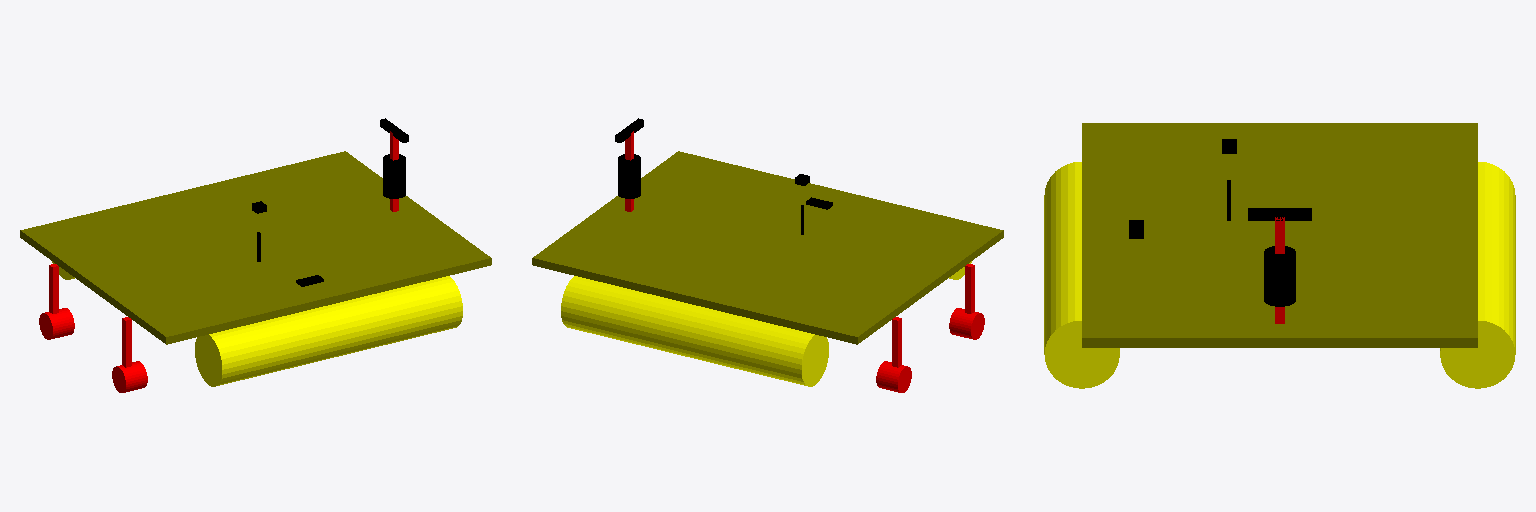
robot.urdf — athena:
<?xml version="1.0" ?>
<!-- =================================================================================== -->
<!-- |    This document was autogenerated by xacro from norway.urdf.xacro              | -->
<!-- |    EDITING THIS FILE BY HAND IS NOT RECOMMENDED                                 | -->
<!-- =================================================================================== -->
<robot name="athena">
  <include filename="[local-path]/AllSeaingVehicle/src/simulation/sim_suite/urdf/inertia.xacro"/>
  <link name="dummy_base_link"/>
  <joint name="dummy_base_joint" type="fixed">
    <parent link="dummy_base_link"/>
    <child link="base_link"/>
    <origin rpy="0 0 0" xyz="0 0 0"/>
  </joint>
  <link name="base_link">
    <visual>
      <geometry>
        <box size="1.35 1.05 0.03"/>
      </geometry>
      <material name="brown">
        <color rgba="0.5 0.5 0 1"/>
      </material>
    </visual>
    <collision>
      <geometry>
        <box size="1.35 1.05 0.03"/>
      </geometry>
    </collision>
    <inertial>
      <mass value=".10"/>
      <inertia ixx="0.015195000000000002" ixy="0" ixz="0" iyy="0.024375000000000004" iyz="0" izz="0.009195"/>
    </inertial>
  </link>
  <link name="right_hull">
    <visual>
      <geometry>
        <cylinder length="1.0" radius="0.1"/>
      </geometry>
      <material name="yellow">
        <color rgba="1 1 0 1"/>
      </material>
    </visual>
    <collision>
      <geometry>
        <cylinder length="1.0" radius="0.1"/>
      </geometry>
    </collision>
    <intertial>
      <mass value=".5"/>
      <inertia ixx="0.042916666666666665" ixy="0" ixz="0" iyy="0.042916666666666665" iyz="0" izz="0.0025000000000000005"/>
    </intertial>
  </link>
  <joint name="right_hull_joint" type="fixed">
    <parent link="base_link"/>
    <child link="right_hull"/>
    <origin rpy="0 1.57 0" xyz="0 0.525 -0.115"/>
  </joint>
  <link name="left_hull">
    <visual>
      <geometry>
        <cylinder length="1.0" radius="0.1"/>
      </geometry>
      <material name="yellow">
        <color rgba="1 1 0 1"/>
      </material>
    </visual>
    <collision>
      <geometry>
        <cylinder length="1.0" radius="0.1"/>
      </geometry>
    </collision>
    <intertial>
      <mass value=".5"/>
      <inertia ixx="0.042916666666666665" ixy="0" ixz="0" iyy="0.042916666666666665" iyz="0" izz="0.0025000000000000005"/>
    </intertial>
  </link>
  <joint name="left_hull_joint" type="fixed">
    <parent link="base_link"/>
    <child link="left_hull"/>
    <origin rpy="0 1.57 0" xyz="0 -0.525 -0.115"/>
  </joint>
  <link name="camera_stand">
    <visual>
      <geometry>
        <box size=".025 .025 0.33"/>
      </geometry>
      <material name="red">
        <color rgba="1 0 0 1"/>
      </material>
    </visual>
    <inertial>
      <mass value=".05"/>
      <inertia ixx="0.00045635416666666676" ixy="0" ixz="0" iyy="5.208333333333335e-06" iyz="0" izz="0.00045635416666666676"/>
    </inertial>
  </link>
  <joint name="camera_stand_joint" type="fixed">
    <parent link="base_link"/>
    <child link="camera_stand"/>
    <origin xyz="0.5750000000000001 0 0.165"/>
  </joint>
  <link name="camera_link">
    <visual>
      <geometry>
        <box size=".025 .17 .025"/>
      </geometry>
      <material name="black">
        <color rgba="0 0 0 1"/>
      </material>
    </visual>
    <inertial>
      <mass value=".05"/>
      <inertia ixx="5.208333333333335e-06" ixy="0" ixz="0" iyy="1.3020833333333336e-05" iyz="0" izz="1.3020833333333336e-05"/>
    </inertial>
  </link>
  <gazebo reference="camera_link">
    <sensor name="camera1" type="camera">
      <horizontal_fov>1.047</horizontal_fov>
      <image>
        <width>640</width>
        <height>480</height>
      </image>
      <clip>
        <near>0.1</near>
        <far>100</far>
      </clip>
      <always_on>1</always_on>
      <update_rate>30</update_rate>
      <plugin filename="libgazebo_ros_camera.so" name="camera_controller">
        <alwaysOn>1</alwaysOn>
        <updateRate>0.0</updateRate>
        <cameraName>zed2i</cameraName>
        <imageTopicName>/zed2i/zed_node/rgb/image_rect_color</imageTopicName>
        <cameraInfoTopicName>/zed_node/camera_info</cameraInfoTopicName>
        <frameName>camera_link</frameName>
        <hackBaseline>0.07</hackBaseline>
        <distortionK1>0.0</distortionK1>
        <distortionK2>0.0</distortionK2>
        <distortionK3>0.0</distortionK3>
        <distortionT1>0.0</distortionT1>
        <distortionT2>0.0</distortionT2>
      </plugin>
    </sensor>
  </gazebo>
  <joint name="camera_joint" type="fixed">
    <parent link="camera_stand"/>
    <child link="camera_link"/>
    <origin xyz="0 0 0.165"/>
  </joint>
  <link name="lidar_stand">
    <visual>
      <geometry>
        <box size=".025 .025 0.15"/>
      </geometry>
      <material name="red">
        <color rgba="1 0 0 1"/>
      </material>
    </visual>
    <inertial>
      <mass value=".25"/>
      <inertia ixx="0.00048177083333333335" ixy="0" ixz="0" iyy="2.6041666666666672e-05" iyz="0" izz="0.00048177083333333335"/>
    </inertial>
  </link>
  <joint name="lidar_stand_joint" type="fixed">
    <parent link="base_link"/>
    <child link="lidar_stand"/>
    <origin xyz="0.5750000000000001 0 0.075"/>
  </joint>
  <link name="velodyne_lidar">
    <visual>
      <geometry>
        <cylinder length=".14" radius=".0425"/>
      </geometry>
      <material name="black">
        <color rgba="0 0 0 1"/>
      </material>
    </visual>
  </link>
  <joint name="lidar_mount_joint" type="fixed">
    <parent link="lidar_stand"/>
    <child link="velodyne_lidar"/>
    <origin xyz="0 0 0.075"/>
  </joint>
  <link name="imu_link">
    <inertial>
      <mass value="0.015"/>
      <inertia ixx="1e-05" ixy="0" ixz="0" iyy="1e-05" iyz="0" izz="1e-05"/>
    </inertial>
    <visual>
      <geometry>
        <box size=".09 .04 .025"/>
      </geometry>
      <material name="black">
        <color rgba="0 0 0 1"/>
      </material>
    </visual>
    <self_collide>0</self_collide>
    <enable_wind>0</enable_wind>
    <kinematic>0</kinematic>
  </link>
  <joint name="imu_joint" type="fixed">
    <parent link="base_link"/>
    <child link="imu_link"/>
    <origin xyz="0.005 -0.38 0.015"/>
    <axis>
      <xyz>1 0 0</xyz>
      <use_parent_model_frame>1</use_parent_model_frame>
      <limit>
        <lower>0</lower>
        <upper>0</upper>
        <effort>0</effort>
        <velocity>0</velocity>
      </limit>
      <dynamics>
        <spring_reference>0</spring_reference>
        <spring_stiffness>0</spring_stiffness>
        <damping>0.7</damping>
        <friction>0</friction>
      </dynamics>
    </axis>
    <physics>
      <ode>
        <limit>
          <cfm>0</cfm>
          <erp>0.2</erp>
        </limit>
        <suspension>
          <cfm>0</cfm>
          <erp>0.2</erp>
        </suspension>
      </ode>
    </physics>
  </joint>
  <gazebo reference="imu_link">
    <sensor name="imu_sensor" type="imu">
      <pose frame="">0 0 0 -3.14159 -0 0</pose>
      <always_on>1</always_on>
      <update_rate>1000</update_rate>
      <imu/>
    </sensor>
  </gazebo>
  <link name="gps_stand_link">
    <visual>
      <geometry>
        <box size=".01 .01 0.2"/>
      </geometry>
      <material name="black">
        <color rgba="0 0 0 1"/>
      </material>
    </visual>
    <self_collide>0</self_collide>
    <enable_wind>0</enable_wind>
    <kinematic>0</kinematic>
  </link>
  <joint name="gps_stand_joint" type="fixed">
    <parent link="base_link"/>
    <child link="gps_stand_link"/>
    <origin xyz="-0.065 -0.135 0.03"/>
  </joint>
  <link name="gps_link">
    <inertial>
      <mass value="0.015"/>
      <inertia ixx="1e-05" ixy="0" ixz="0" iyy="1e-05" iyz="0" izz="1e-05"/>
    </inertial>
    <visual>
      <geometry>
        <box size=".04 .04 .025"/>
      </geometry>
      <material name="black">
        <color rgba="0 0 0 1"/>
      </material>
    </visual>
    <self_collide>0</self_collide>
    <enable_wind>0</enable_wind>
    <kinematic>0</kinematic>
  </link>
  <joint name="gps_mount_joint" type="fixed">
    <parent link="gps_stand_link"/>
    <child link="gps_link"/>
    <origin xyz="0 0 0.2"/>
  </joint>
  <link name="left_motor_mount">
    <visual>
      <geometry>
        <box size=".025 .025 0.25"/>
      </geometry>
      <material name="red">
        <color rgba="1 0 0 1"/>
      </material>
    </visual>
    <inertial>
      <mass value=".1"/>
      <inertia ixx="0.0005260416666666667" ixy="0" ixz="0" iyy="1.041666666666667e-05" iyz="0" izz="0.0005260416666666667"/>
    </inertial>
  </link>
  <joint name="left_motor_mount_joint" type="fixed">
    <parent link="base_link"/>
    <child link="left_motor_mount"/>
    <origin xyz="-0.6875 -0.2625 -0.14"/>
    <!-- <axis xyz="0 0 1"/>
        <limit lower="${-(deck_height + left_motor_height)/2}" upper="${-(deck_height +
    left_motor_height)/2}" effort="100" velocity="100"/> -->
  </joint>
  <link name="right_motor_mount">
    <visual>
      <geometry>
        <box size=".025 .025 0.25"/>
      </geometry>
      <material name="red">
        <color rgba="1 0 0 1"/>
      </material>
    </visual>
    <inertial>
      <mass value=".1"/>
      <inertia ixx="0.0005260416666666667" ixy="0" ixz="0" iyy="1.041666666666667e-05" iyz="0" izz="0.0005260416666666667"/>
    </inertial>
  </link>
  <joint name="right_motor_mount_joint" type="fixed">
    <parent link="base_link"/>
    <child link="right_motor_mount"/>
    <origin xyz="-0.6875 0.2625 -0.14"/>
    <!-- <axis xyz="0 0 1"/>
        <limit lower="0" upper="0" effort="100" velocity="100"/> -->
  </joint>
  <!-- <xacro:propeller side="left"/>  -->
  <link name="left_propeller_link">
    <!-- <pose>0 0 0 0 -1.57079 0</pose> -->
    <inertial>
      <origin rpy="0 1.57 0"/>
      <!-- <pose>0 0 -.16 0 -0 0</pose> -->
      <mass value="0.5"/>
      <inertia ixx="0.008545" ixy="0" ixz="0" iyy="0.008545" iyz="0" izz="0.0144"/>
    </inertial>
    <self_collide>0</self_collide>
    <enable_wind>0</enable_wind>
    <kinematic>0</kinematic>
    <visual name="left_propeller_link_visual">
      <!-- <pose>0 0 0 0 -1.57079 0</pose> -->
      <origin rpy="0 1.57 0"/>
      <geometry>
        <!-- <mesh>
      <scale>1 1 1</scale>
      <uri>model://boat/meshes/propeller.dae</uri>
    </mesh> -->
        <cylinder length="0.09" radius="0.05"/>
      </geometry>
      <material name="red">
        <color rgba="1 0 0 1"/>
      </material>
    </visual>
    <collision name="left_propeller_link_collision">
      <origin rpy="0 1.57 0"/>
      <laser_retro>0</laser_retro>
      <max_contacts>10</max_contacts>
      <!-- <pose>-0.08 0 0 3.14159 -0 3.14159</pose> -->
      <geometry>
        <cylinder length="0.09" radius="0.05"/>
      </geometry>
      <surface>
        <friction>
          <ode>
            <mu>1</mu>
            <mu2>1</mu2>
            <fdir1>0 0 0</fdir1>
            <slip1>0</slip1>
            <slip2>0</slip2>
          </ode>
          <torsional>
            <coefficient>1</coefficient>
            <patch_radius>0</patch_radius>
            <surface_radius>0</surface_radius>
            <use_patch_radius>1</use_patch_radius>
            <ode>
              <slip>0</slip>
            </ode>
          </torsional>
        </friction>
        <bounce>
          <restitution_coefficient>0</restitution_coefficient>
          <threshold>1e+06</threshold>
        </bounce>
        <contact>
          <collide_without_contact>0</collide_without_contact>
          <collide_without_contact_bitmask>1</collide_without_contact_bitmask>
          <collide_bitmask>1</collide_bitmask>
          <ode>
            <soft_cfm>0</soft_cfm>
            <soft_erp>0.2</soft_erp>
            <kp>1e+13</kp>
            <kd>1</kd>
            <max_vel>0.01</max_vel>
            <min_depth>0</min_depth>
          </ode>
          <bullet>
            <split_impulse>1</split_impulse>
            <split_impulse_penetration_threshold>-0.01</split_impulse_penetration_threshold>
            <soft_cfm>0</soft_cfm>
            <soft_erp>0.2</soft_erp>
            <kp>1e+13</kp>
            <kd>1</kd>
          </bullet>
        </contact>
      </surface>
    </collision>
  </link>
  <gazebo reference="left_propeller_link">
    <pose relative_to="left_motor_joint">0 0 0 0 -0 0</pose>
  </gazebo>
  <joint name="left_motor_joint" type="revolute">
    <parent link="base_link"/>
    <child link="left_propeller_link"/>
    <origin xyz="-0.675  0.2625 -0.25"/>
    <limit effort="-1" lower="-1e+16" upper="1e+16" velocity="-1"/>
    <axis xyz="1 0 0"/>
    <physics>
      <ode>
        <limit>
          <cfm>0</cfm>
          <erp>0.2</erp>
        </limit>
        <suspension>
          <cfm>0</cfm>
          <erp>0.2</erp>
        </suspension>
      </ode>
    </physics>
  </joint>
  <gazebo reference="left_motor_joint">
    <use_parent_model_frame>1</use_parent_model_frame>
  </gazebo>
  <link name="right_propeller_link">
    <!-- <pose>0 0 0 0 -1.57079 0</pose> -->
    <inertial>
      <!-- <pose>0 0 -.16 0 -0 0</pose> -->
      <origin rpy="0 1.57 0" xyz="0 0 0"/>
      <mass value="0.5"/>
      <inertia ixx="0.008545" ixy="0" ixz="0" iyy="0.008545" iyz="0" izz="0.0144"/>
    </inertial>
    <self_collide>0</self_collide>
    <enable_wind>0</enable_wind>
    <kinematic>0</kinematic>
    <visual name="right_propeller_link_visual">
      <!-- <pose>0 0 0 0 -1.57079 0</pose> -->
      <geometry>
        <!-- <mesh>
    <scale>1 1 1</scale>
    <uri>model://boat/meshes/propeller.dae</uri>
  </mesh> -->
        <cylinder length="0.09" radius="0.05"/>
      </geometry>
      <origin rpy="0 1.57 0" xyz="0 0 0"/>
      <material name="red">
        <color rgba="1 0 0 1"/>
      </material>
    </visual>
    <collision name="right_propeller_link_collision">
      <origin rpy="0 1.57 0" xyz="0 0 0"/>
      <laser_retro>0</laser_retro>
      <max_contacts>10</max_contacts>
      <!-- <pose>-0.08 0 0 3.14159 -0 3.14159</pose> -->
      <geometry>
        <cylinder length="0.09" radius="0.05"/>
      </geometry>
      <surface>
        <friction>
          <ode>
            <mu>1</mu>
            <mu2>1</mu2>
            <fdir1>0 0 0</fdir1>
            <slip1>0</slip1>
            <slip2>0</slip2>
          </ode>
          <torsional>
            <coefficient>1</coefficient>
            <patch_radius>0</patch_radius>
            <surface_radius>0</surface_radius>
            <use_patch_radius>1</use_patch_radius>
            <ode>
              <slip>0</slip>
            </ode>
          </torsional>
        </friction>
        <bounce>
          <restitution_coefficient>0</restitution_coefficient>
          <threshold>1e+06</threshold>
        </bounce>
        <contact>
          <collide_without_contact>0</collide_without_contact>
          <collide_without_contact_bitmask>1</collide_without_contact_bitmask>
          <collide_bitmask>1</collide_bitmask>
          <ode>
            <soft_cfm>0</soft_cfm>
            <soft_erp>0.2</soft_erp>
            <kp>1e+13</kp>
            <kd>1</kd>
            <max_vel>0.01</max_vel>
            <min_depth>0</min_depth>
          </ode>
          <bullet>
            <split_impulse>1</split_impulse>
            <split_impulse_penetration_threshold>-0.01</split_impulse_penetration_threshold>
            <soft_cfm>0</soft_cfm>
            <soft_erp>0.2</soft_erp>
            <kp>1e+13</kp>
            <kd>1</kd>
          </bullet>
        </contact>
      </surface>
    </collision>
  </link>
  <joint name="right_motor_joint" type="revolute">
    <parent link="base_link"/>
    <child link="right_propeller_link"/>
    <origin xyz="-0.675  -0.2625 -0.25"/>
    <limit effort="-1" lower="-1e+16" upper="1e+16" velocity="-1"/>
    <physics>
      <ode>
        <limit>
          <cfm>0</cfm>
          <erp>0.2</erp>
        </limit>
        <suspension>
          <cfm>0</cfm>
          <erp>0.2</erp>
        </suspension>
      </ode>
    </physics>
  </joint>
  <gazebo reference="right_motor_joint">
    <axis>
      <xyz>1 0 0</xyz>
      <use_parent_model_frame>1</use_parent_model_frame>
    </axis>
  </gazebo>
  <gazebo>
    <plugin filename="libArduPilotPlugin.so" name="ArduCopter_Plugin">
      <fdm_addr>127.0.0.1</fdm_addr>
      <fdm_port_in>9002</fdm_port_in>
      <fdm_port_out>9003</fdm_port_out>
      <modelXYZToAirplaneXForwardZDown>0 0 0 3.141593 0 0</modelXYZToAirplaneXForwardZDown>
      <gazeboXYZToNED>0 0 0 3.141593 0 0</gazeboXYZToNED>
      <imuName>dummy_base_link::imu_sensor</imuName>
      <connectionTimeoutMaxCount>5</connectionTimeoutMaxCount>
      <control channel="0">
        <type>VELOCITY</type>
        <offset>-0.5</offset>
        <p_gain>1</p_gain>
        <i_gain>0</i_gain>
        <d_gain>0</d_gain>
        <i_max>0</i_max>
        <i_min>0</i_min>
        <cmd_max>10</cmd_max>
        <cmd_min>-10</cmd_min>
        <jointName>left_motor_joint</jointName>
        <multiplier>-100</multiplier>
      </control>
      <control channel="2">
        <type>VELOCITY</type>
        <offset>-0.5</offset>
        <p_gain>1</p_gain>
        <i_gain>0</i_gain>
        <d_gain>0</d_gain>
        <i_max>0</i_max>
        <i_min>0</i_min>
        <cmd_max>10</cmd_max>
        <cmd_min>-10</cmd_min>
        <jointName>right_motor_joint</jointName>
        <multiplier>-100</multiplier>
      </control>
    </plugin>
    <plugin filename="libLiftDragPlugin.so" name="rotor_1_blade_1">
      <a0>2</a0>
      <alpha_stall>4</alpha_stall>
      <cla>10.2500</cla>
      <cda>0.10</cda>
      <cma>0.00</cma>
      <cla_stall>-0.025</cla_stall>
      <cda_stall>0.0</cda_stall>
      <cma_stall>0.0</cma_stall>
      <area>0.002</area>
      <air_density>997</air_density>
      <cp>0.084 0 0</cp>
      <forward>0 1 0</forward>
      <upward>0 0 1</upward>
      <link_name>right_propeller_link</link_name>
    </plugin>
    <plugin filename="libLiftDragPlugin.so" name="rotor_1_blade_2">
      <a0>2</a0>
      <alpha_stall>4</alpha_stall>
      <cla>10.2500</cla>
      <cda>0.10</cda>
      <cma>0.00</cma>
      <cla_stall>-0.025</cla_stall>
      <cda_stall>0.0</cda_stall>
      <cma_stall>0.0</cma_stall>
      <area>0.002</area>
      <air_density>997</air_density>
      <cp>-0.084 0 0</cp>
      <forward>0 -1 0</forward>
      <upward>0 0 1</upward>
      <link_name>left_propeller_link</link_name>
    </plugin>
    <plugin filename="libusv_gazebo_dynamics_plugin.so" name="usv_dynamics_wamv_dynamics_plugin">
      <bodyName>base_link</bodyName>
      <waterLevel>.25</waterLevel>
      <waterDensity>997.8</waterDensity>
      <xDotU>0.0</xDotU>
      <yDotV>0.0</yDotV>
      <nDotR>0.0</nDotR>
      <xU>51.3</xU>
      <xUU>72.4</xUU>
      <yV>40.0</yV>
      <yVV>0.0</yVV>
      <zW>500.0</zW>
      <kP>50.0</kP>
      <mQ>50.0</mQ>
      <nR>400.0</nR>
      <nRR>0.0</nRR>
      <hullRadius>0.1</hullRadius>
      <boatWidth>1.25</boatWidth>
      <boatLength>1</boatLength>
      <length_n>2</length_n>
      <!-- <wave_model>ocean</wave_model> -->
      <wave_n> 3 </wave_n>
      <wave_amp0> 0</wave_amp0>
      <wave_amp1> 0</wave_amp1>
      <wave_amp2> 0</wave_amp2>
      <wave_period0> 12 </wave_period0>
      <wave_period1> 8 </wave_period1>
      <wave_period2> 5.33333 </wave_period2>
      <wave_direction0> 0.921061 -0.389418 </wave_direction0>
      <wave_direction1> 1 0 </wave_direction1>
      <wave_direction2> 0.921061 0.389418 </wave_direction2>
    </plugin>
  </gazebo>
</robot>

--- What the picture shows (computed from the rendered views, not written in the file) ---
The picture shows the robot from 3 angles, left to right: view 1: azimuth 30°, elevation 25°; view 2: azimuth 150°, elevation 25°; view 3: azimuth 270°, elevation 25°; orthographic projection.
Model athena with 15 links and 14 joints (2 revolute, 12 fixed), rooted at dummy_base_link, posed all joints at 0.
Visible links, largest first — view 1: base_link, left_hull, velodyne_lidar, left_propeller_link, right_propeller_link; view 2: base_link, right_hull, velodyne_lidar, right_propeller_link, left_propeller_link; view 3: base_link, right_hull, left_hull, velodyne_lidar, camera_link.
Link boxes in pixels (box(x1,y1,x2,y2)): base_link: box(20, 151, 491, 344); left_hull: box(195, 276, 462, 386); velodyne_lidar: box(383, 154, 405, 198); left_propeller_link: box(39, 308, 74, 339); right_propeller_link: box(112, 361, 147, 392); base_link: box(532, 151, 1003, 344); right_hull: box(561, 276, 828, 386); velodyne_lidar: box(618, 154, 640, 198); right_propeller_link: box(949, 308, 984, 339); left_propeller_link: box(876, 361, 911, 392); base_link: box(1082, 123, 1477, 347); right_hull: box(1440, 162, 1515, 388); left_hull: box(1044, 162, 1119, 388); velodyne_lidar: box(1264, 246, 1295, 306); camera_link: box(1248, 208, 1311, 220).
Size in the robot's own frame: 1.4 by 1.25 by 0.6425 metres.
Geometry: primitives only (box / cylinder / sphere), no mesh files.